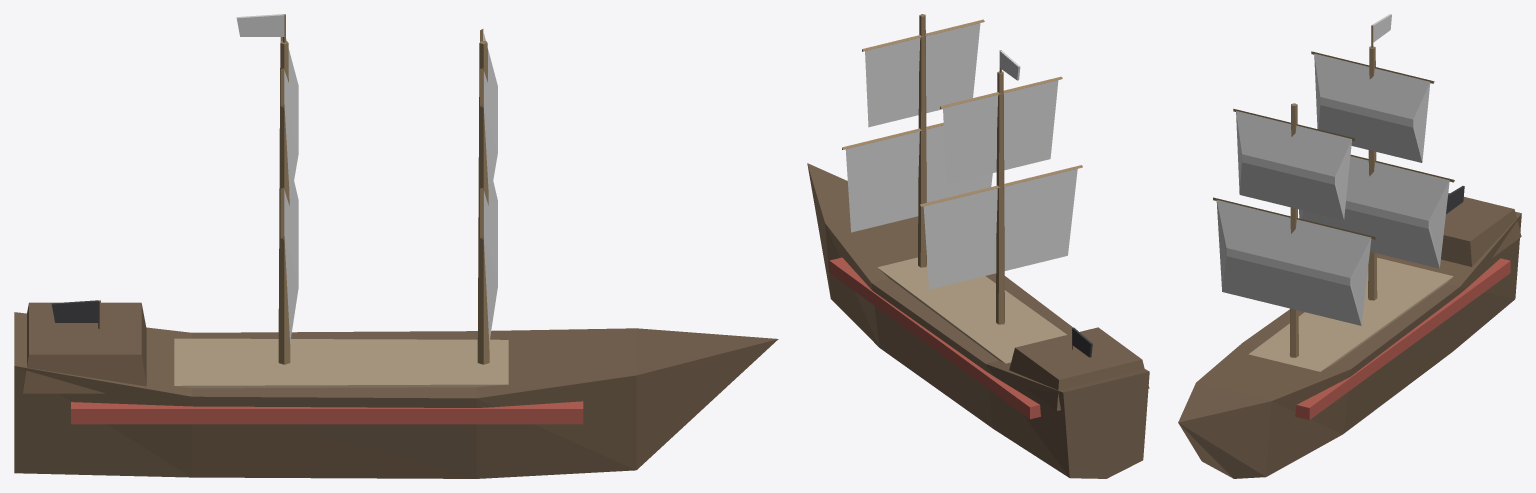
The model's file is privateer.glb.
3 views of the same model, side by side, from view 1: azimuth 30°, elevation 25°; view 2: azimuth 150°, elevation 25°; view 3: azimuth 270°, elevation 25° (orthographic). The views are drawn at different scales.
Parts seen in each view (by area): view 1: LOD0; view 2: LOD0; view 3: LOD0.
Boxes of the visible parts, x1,y1,x2,y2 form: LOD0: (14,14,778,478); LOD0: (807,14,1149,478); LOD0: (1178,14,1521,478).
Size of what is drawn, in the model's own units: 2.44 by 1.74 by 1.54.
